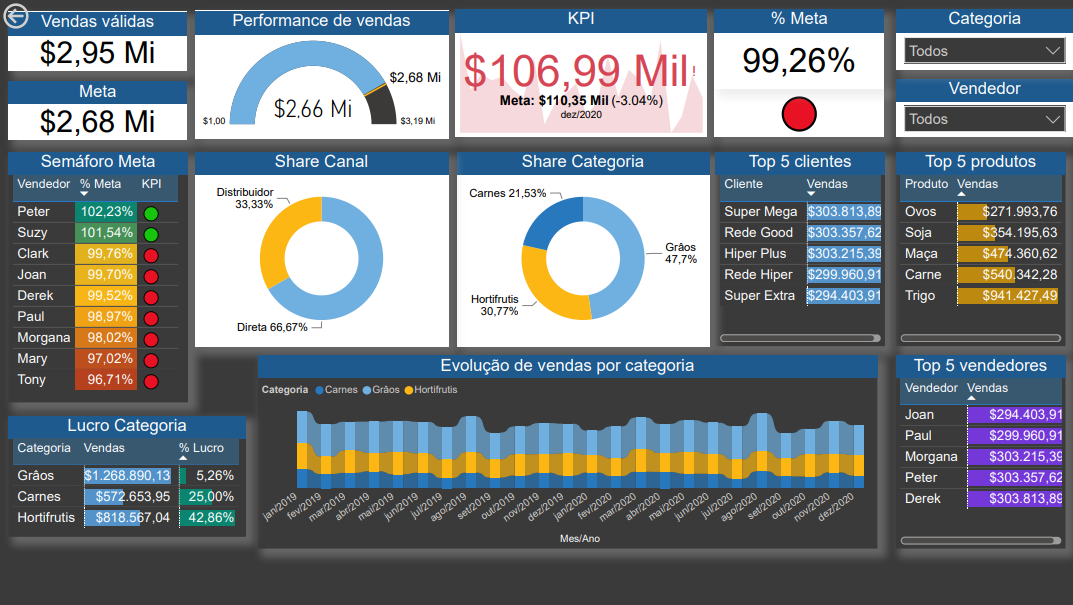

What the dashboard file says about the page in this screenshot:
{"tool":"powerbi","page":{"name":"Página 1","canvas":[1280,720],"ordinal":0},"visuals":[{"type":"card","title":"Vendas válidas","fields":{"Values":["_Medidas.Vendas_validas"]},"box":[11.1,15.2,213.1,69.2],"z":0},{"type":"card","title":"Vendas válidas","fields":{"Values":["_Medidas.KPI"]},"box":[852.4,105.3,202,58],"z":0,"group":"g1"},{"type":"card","title":"% Meta","fields":{"Values":["_Medidas.% Meta"]},"box":[852.4,12.5,202,92.8],"z":1000,"group":"g1"},{"type":"card","title":"Meta","fields":{"Values":["_Medidas.Valor meta"]},"box":[11.1,96.9,213.1,69.2],"z":1000},{"type":"gauge","title":"Performance de vendas","fields":{"MaxValue":["_Medidas.Val max"],"TargetValue":["_Medidas.Valor meta"],"Y":["_Medidas.Vendas C/ Vnd"]},"box":[233.4,14.1,301.3,151.3],"z":2000},{"type":"kpi","title":"KPI","fields":{"Goal":["_Medidas.Valor meta"],"Indicator":["_Medidas.Vendas C/ Vnd"],"TrendLine":["D_Calendario.Mes/Ano"]},"box":[543.8,12.5,298.9,150.8],"z":3000},{"type":"group","id":"g1","title":"Grupo 1","box":[852.4,12.5,202,150.8],"z":4000},{"type":"slicer","title":"Vendedor","fields":{"Values":["D_Vendedor.Nome_Vend"]},"box":[1068.3,94.1,211.7,69.2],"z":5000},{"type":"slicer","title":"Categoria","fields":{"Values":["D_categoria.Nome_Categoria"]},"box":[1068.3,12.5,211.7,70.6],"z":6000},{"type":"tableEx","title":"Semáforo Meta","fields":{"Values":["D_Vendedor.Nome_Vend","_Medidas.% Meta","_Medidas.KPI"]},"box":[11.3,181,213.6,298.4],"z":7000},{"type":"tableEx","title":"Lucro Categoria","fields":{"Values":["D_categoria.Nome_Categoria","_Medidas.Vendas_validas","_Medidas.% Lucro"]},"box":[11.3,495,282.9,144.3],"z":7001},{"type":"actionButton","box":[0,0,100,40],"z":7002},{"type":"donutChart","title":"Share Categoria","fields":{"Category":["D_categoria.Nome_Categoria"],"Y":["_Medidas.Vendas_validas"]},"box":[544.5,181,301.3,230.5],"z":7003},{"type":"donutChart","title":"Share Canal","fields":{"Y":["_Medidas.Vendas_validas"],"Category":["D_Canal_vendas.Desc_Canal_vendas"]},"box":[233.4,181,301.3,230.5],"z":7004},{"type":"tableEx","title":"Top 5 clientes","fields":{"Values":["D_Clientes.Nome_Cliente","_Medidas.Vendas_validas"]},"box":[852.9,181,202.3,230.5],"z":7006},{"type":"tableEx","title":"Top 5 produtos","fields":{"Values":["D_Produto.Nome_produto","_Medidas.Vendas_validas"]},"box":[1067.8,181,202.3,230.5],"z":7007},{"type":"tableEx","title":"Top 5 vendedores","fields":{"Values":["D_Vendedor.Nome_Vend","_Medidas.Vendas_validas"]},"box":[1067.8,422.9,202.3,230.5],"z":7008},{"type":"ribbonChart","title":"Evolução de vendas por categoria","fields":{"Y":["_Medidas.Vendas_validas"],"Series":["D_categoria.Nome_Categoria"],"Category":["D_Calendario.Mes/Ano"]},"box":[307.7,423,738.1,230.5],"z":7009}]}

Visuals, with their boxes in screenshot pixels (x1, y1, x2, y2), scaled from the page's 1280x720 canvas onto the 1073x605 screenshot:
"Vendas válidas" card: left=9, top=13, right=188, bottom=71
"Vendas válidas" card: left=715, top=88, right=884, bottom=137
"% Meta" card: left=715, top=11, right=884, bottom=88
"Meta" card: left=9, top=81, right=188, bottom=140
"Performance de vendas" gauge: left=196, top=12, right=448, bottom=139
"KPI" kpi: left=456, top=11, right=706, bottom=137
"Grupo 1" group: left=715, top=11, right=884, bottom=137
"Vendedor" slicer: left=896, top=79, right=1072, bottom=137
"Categoria" slicer: left=896, top=11, right=1072, bottom=70
"Semáforo Meta" tableEx: left=9, top=152, right=189, bottom=403
"Lucro Categoria" tableEx: left=9, top=416, right=247, bottom=537
actionButton: left=0, top=0, right=84, bottom=34
"Share Categoria" donutChart: left=456, top=152, right=709, bottom=346
"Share Canal" donutChart: left=196, top=152, right=448, bottom=346
"Top 5 clientes" tableEx: left=715, top=152, right=885, bottom=346
"Top 5 produtos" tableEx: left=895, top=152, right=1065, bottom=346
"Top 5 vendedores" tableEx: left=895, top=355, right=1065, bottom=549
"Evolução de vendas por categoria" ribbonChart: left=258, top=355, right=877, bottom=549
